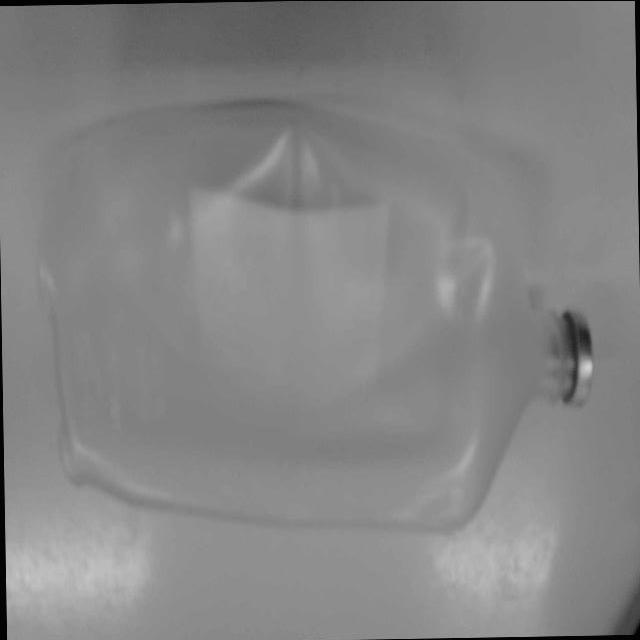Sharps: (37, 95, 594, 537)
